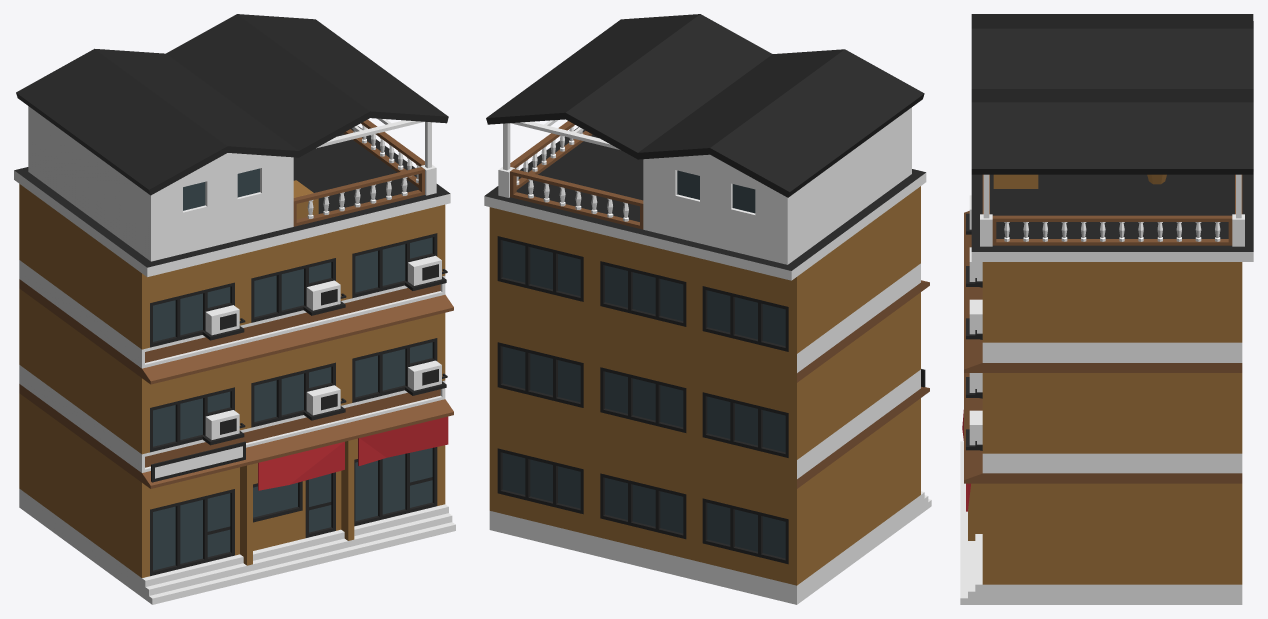
Rendered from india_building-street-india.fbx.
3 renders of one model, left to right at view 1: azimuth 30°, elevation 25°; view 2: azimuth 150°, elevation 25°; view 3: azimuth 270°, elevation 25°, orthographic. The views are drawn at different scales.
Visible parts, largest first — view 1: india_building_street_india; view 2: india_building_street_india; view 3: india_building_street_india.
Boxes of the visible parts, x1,y1,x2,y2 form: india_building_street_india: (14,14,455,604); india_building_street_india: (484,14,931,604); india_building_street_india: (960,14,1253,604).
Size of the model in its own units: 146 by 200 by 115.
